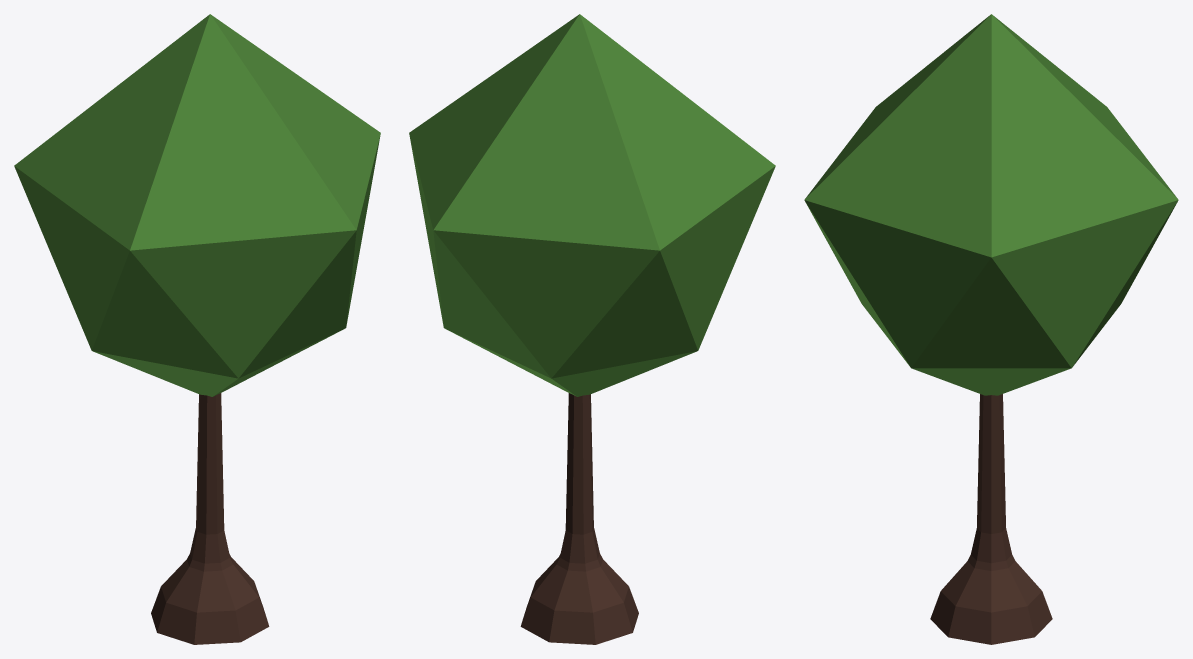
Rendered from Tree.fbx.
The picture shows the model from 3 angles, left to right: view 1: azimuth 30°, elevation 25°; view 2: azimuth 150°, elevation 25°; view 3: azimuth 270°, elevation 25°; orthographic projection.
Parts seen in each view (by area): view 1: Leaves, Tree; view 2: Leaves, Tree; view 3: Leaves, Tree.
Part boxes in pixels (left/top/right/bottom): Leaves: left=14, top=14, right=380, bottom=396; Tree: left=151, top=393, right=269, bottom=644; Leaves: left=409, top=14, right=775, bottom=396; Tree: left=520, top=393, right=638, bottom=644; Leaves: left=804, top=14, right=1178, bottom=395; Tree: left=930, top=394, right=1052, bottom=644.
Size of the model in its own units: 7.63 by 14.31 by 8.03.
